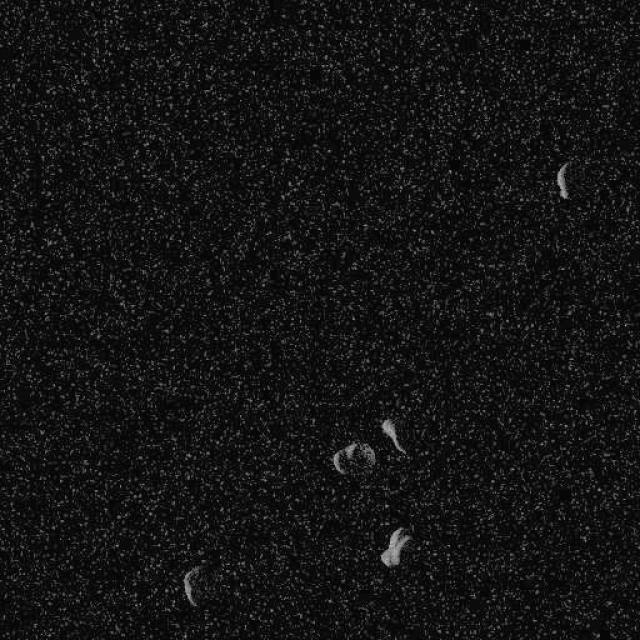D2: (332, 440, 376, 478), (379, 525, 411, 567), (380, 416, 406, 455), (182, 564, 202, 608), (555, 159, 571, 200)
